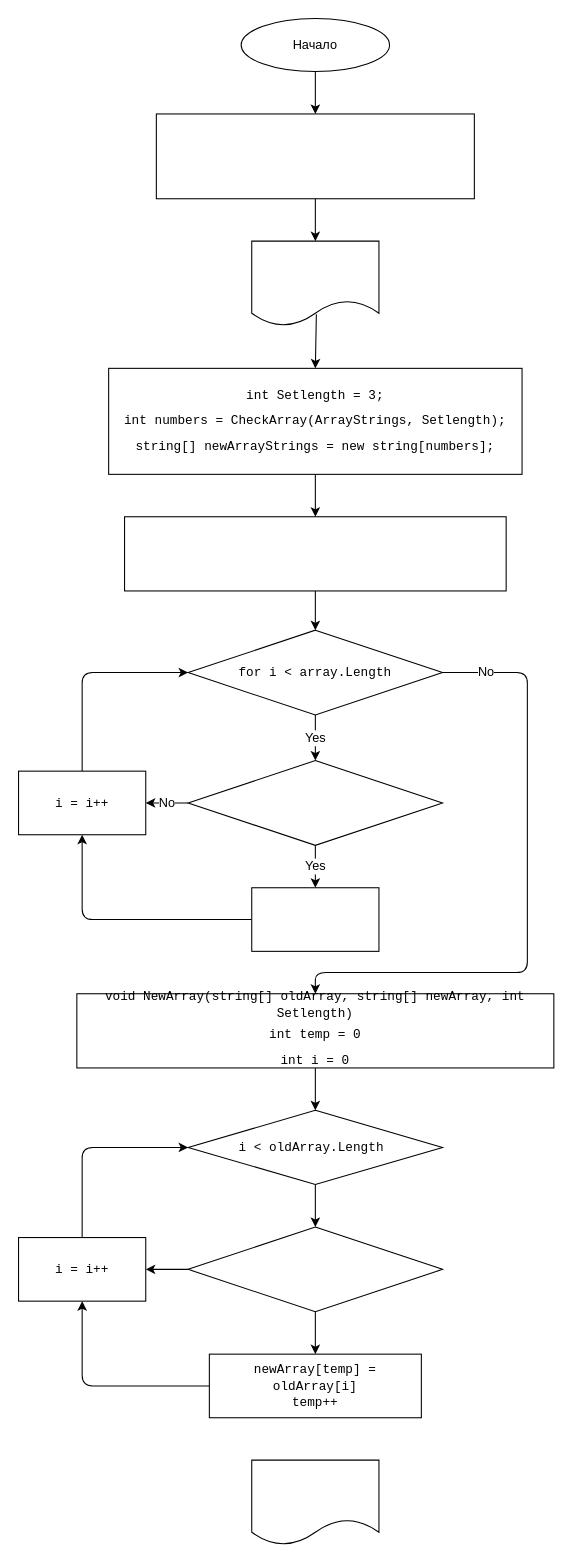
This 572x1563 diagram has some shape labels left out. The centre of each missing label's shape, as x and y in pixels:
"if array[i].Length <= Setlength" belongs at pixel 315 802.
"int CheckArray(string[] array, int Setlength) int result = 0 int i = 0" belongs at pixel 314 553.
"oldArray[i].Length <= Setlength" belongs at pixel 315 1269.
"result = result++" belongs at pixel 315 919.
"Создаем массив из строк , путем ручного ввода каждого элемента" belongs at pixel 314 156.
